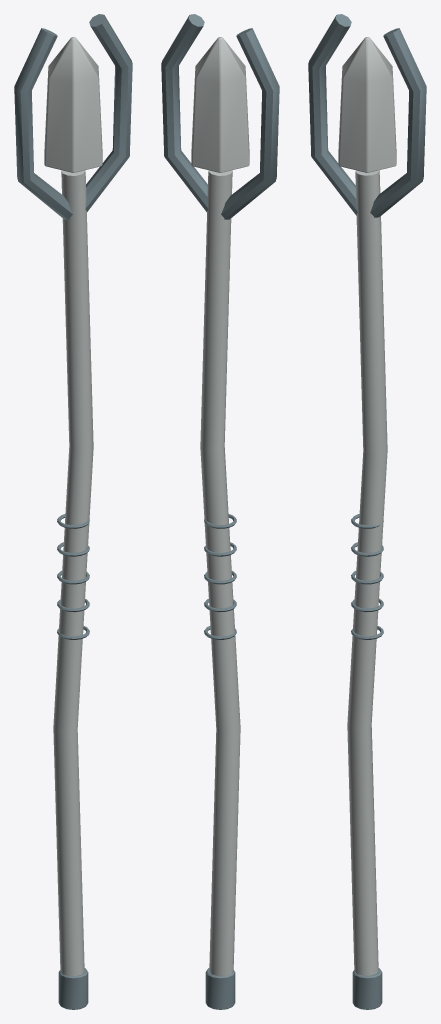
The model's file is magic-staff.glb.
3 renders of one model, left to right at view 1: azimuth 30°, elevation 25°; view 2: azimuth 150°, elevation 25°; view 3: azimuth 330°, elevation 25°, orthographic.
Parts seen in each view (by area): view 1: wooden_staff, staff_crystal, crown_prong, crown_prong.001, heel_cap; view 2: wooden_staff, staff_crystal, crown_prong, crown_prong.001, heel_cap; view 3: wooden_staff, staff_crystal, crown_prong.001, crown_prong, heel_cap.
Part boxes in pixels (x1,y1,x2,y2): wooden_staff: [53, 170, 93, 976]; staff_crystal: [44, 37, 102, 172]; crown_prong: [14, 28, 72, 219]; crown_prong.001: [85, 14, 132, 211]; heel_cap: [58, 968, 88, 1009]; wooden_staff: [200, 170, 240, 976]; staff_crystal: [191, 37, 249, 172]; crown_prong: [221, 28, 279, 219]; crown_prong.001: [161, 14, 208, 211]; heel_cap: [205, 968, 235, 1009]; wooden_staff: [347, 170, 387, 975]; staff_crystal: [338, 37, 396, 172]; crown_prong.001: [370, 28, 426, 217]; crown_prong: [308, 14, 357, 215]; heel_cap: [352, 968, 382, 1009].
Size of the model in its own units: 0.2195 by 1.77 by 0.095.
